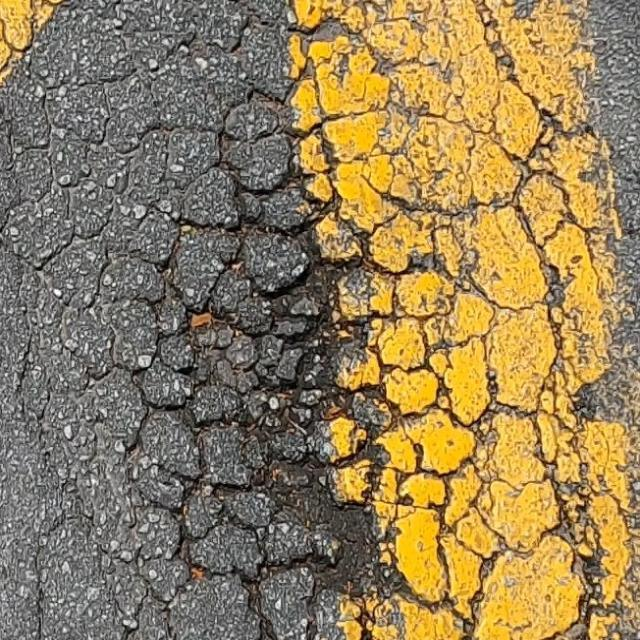GRIETA: (34, 513, 66, 639), (249, 592, 278, 639)
PIEL DE COCODRILO: (0, 0, 634, 628)
